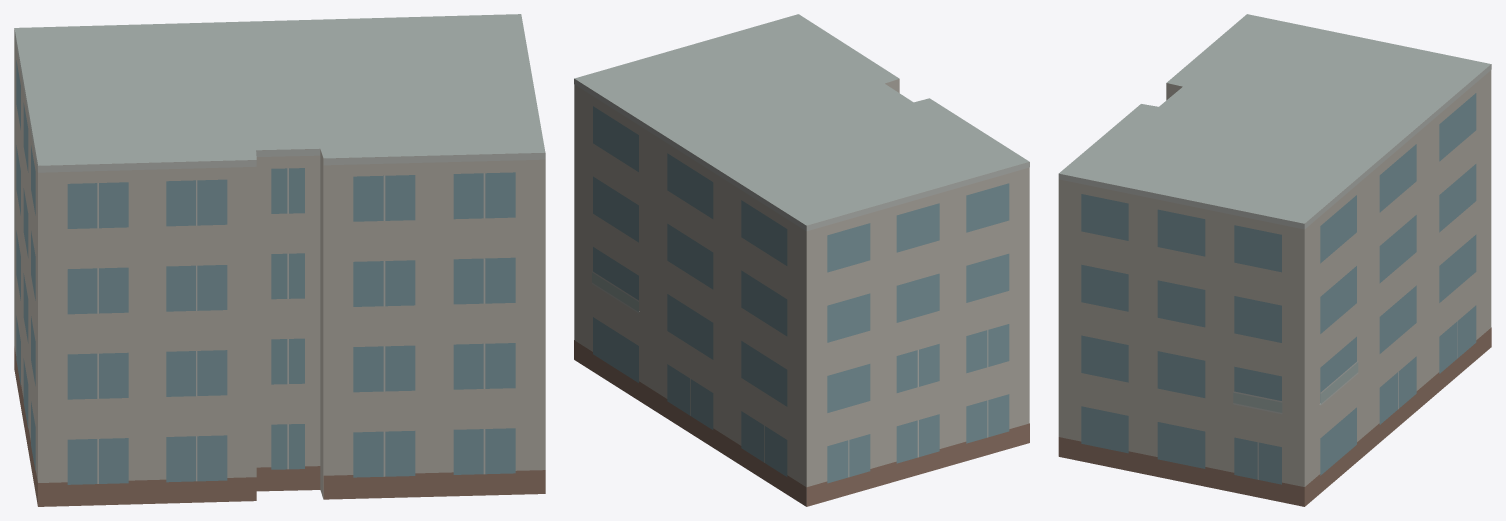
Rendered from survey-upis-32852742.glb.
3 views of the same model, side by side, from view 1: azimuth 30°, elevation 25°; view 2: azimuth 150°, elevation 25°; view 3: azimuth 270°, elevation 25° (orthographic). The views are drawn at different scales.
Visible parts, largest first — view 1: survey-upis-32852742.tmp; view 2: survey-upis-32852742.tmp; view 3: survey-upis-32852742.tmp.
Part boxes in pixels (left/top/right/bottom): survey-upis-32852742.tmp: left=14, top=14, right=545, bottom=506; survey-upis-32852742.tmp: left=574, top=14, right=1029, bottom=506; survey-upis-32852742.tmp: left=1058, top=14, right=1491, bottom=506.
Bounding box in the file's own units: 19.16 × 12.05 × 16.7.
